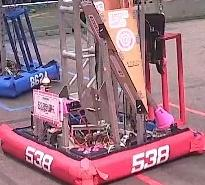red_number: (128, 142, 173, 176), (23, 144, 55, 175)
